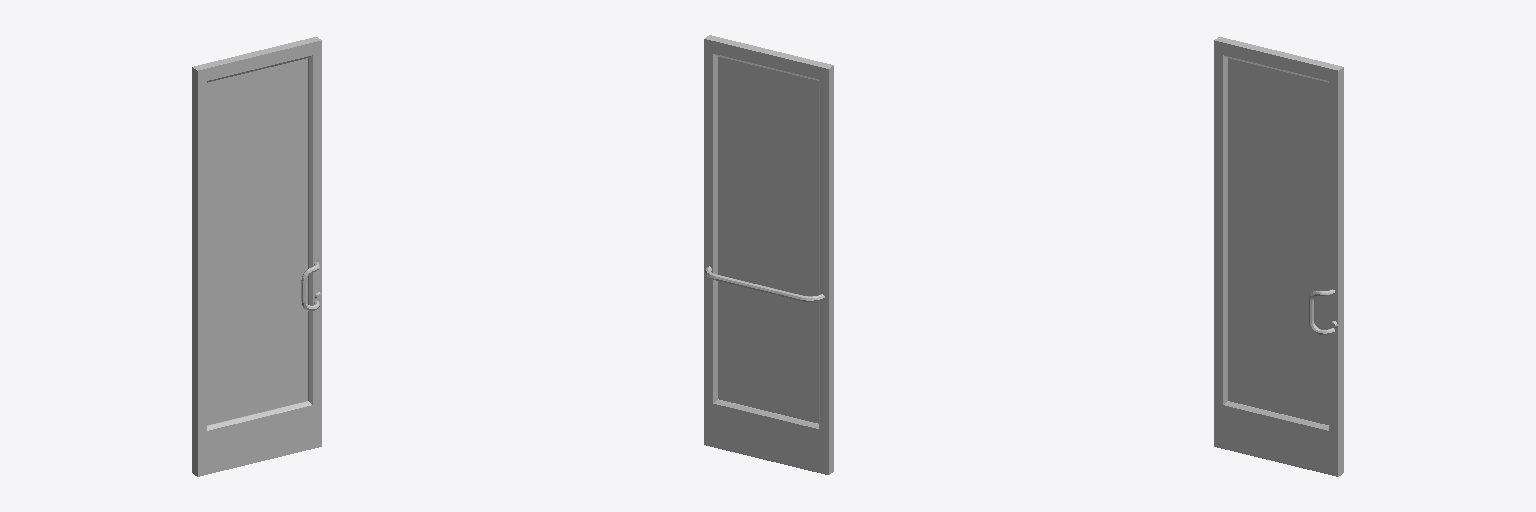
The model's file is Building_Door_Left_LOD0.obj.
3 views of the same model, side by side, from view 1: azimuth 30°, elevation 25°; view 2: azimuth 150°, elevation 25°; view 3: azimuth 330°, elevation 25° (orthographic).
Visible parts, largest first — view 1: Building_Door_Left_LOD0 Building_Door_Left; view 2: Building_Door_Left_LOD0 Building_Door_Left; view 3: Building_Door_Left_LOD0 Building_Door_Left.
Boxes of the visible parts, x1=… form: Building_Door_Left_LOD0 Building_Door_Left: x1=192, y1=37, x2=321, y2=476; Building_Door_Left_LOD0 Building_Door_Left: x1=704, y1=35, x2=833, y2=474; Building_Door_Left_LOD0 Building_Door_Left: x1=1214, y1=37, x2=1343, y2=476.
Bounding box in the file's own units: 79.94 × 250 × 21.69.